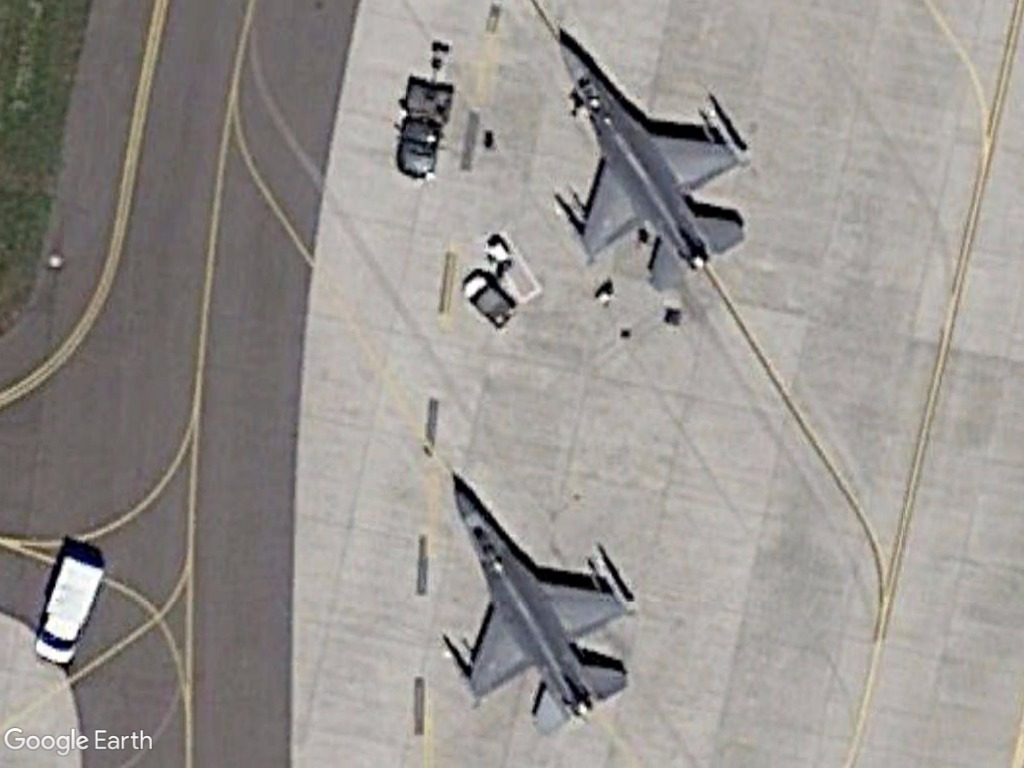fighter: (433, 463, 644, 749), (548, 33, 760, 305)
van: (29, 548, 112, 672)
